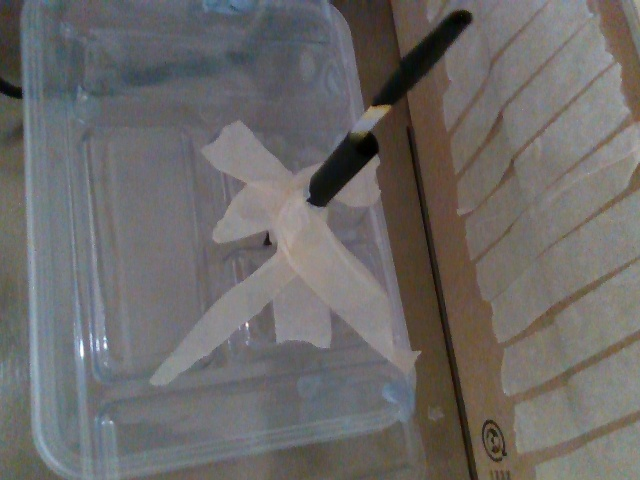test_strip: (348, 9, 473, 136)
